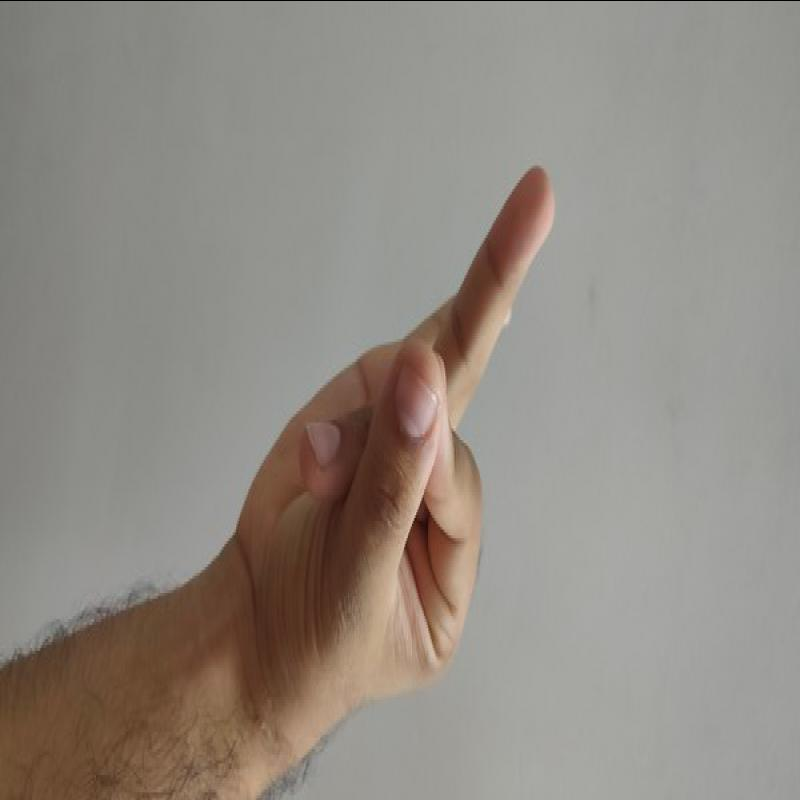Katakam: (219, 148, 589, 783)
